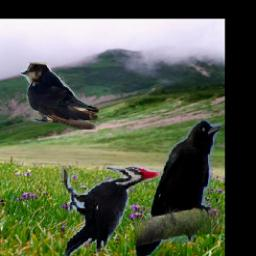Crow: (135, 120, 222, 256)
Swallow: (20, 63, 99, 131)
Woodpecker: (60, 165, 160, 256)
